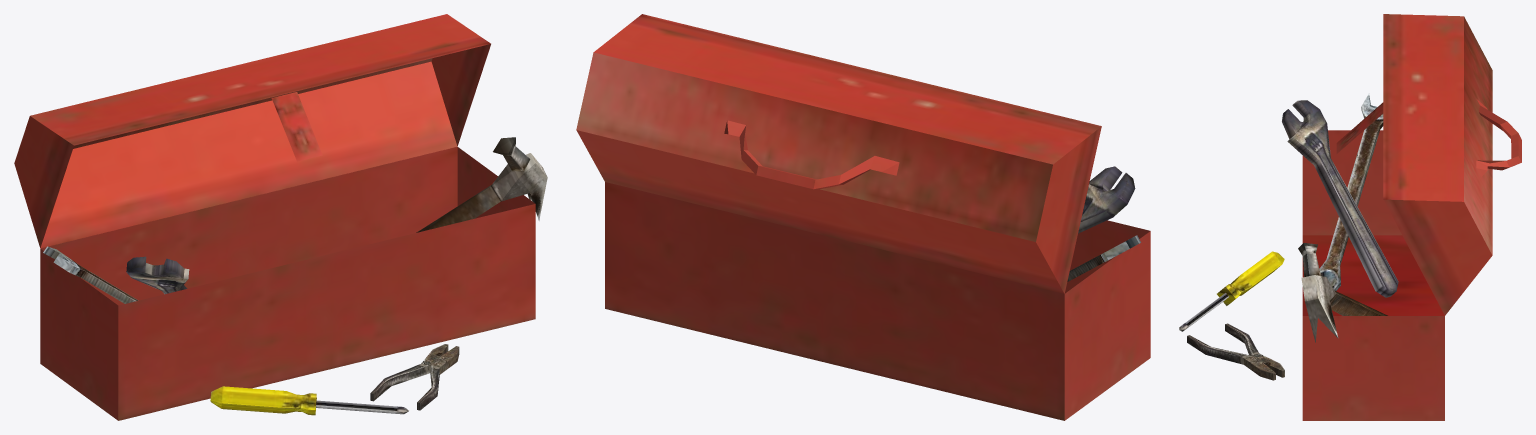
The model's file is ToolBoxFull.fbx.
3 views of the same model, side by side, from view 1: azimuth 30°, elevation 25°; view 2: azimuth 150°, elevation 25°; view 3: azimuth 270°, elevation 25° (orthographic). The views are drawn at different scales.
Visible parts, largest first — view 1: ToolBox, Hammer, ScrewDriverPlastic, Plires, AWrench, Wrench; view 2: ToolBox, AWrench, Wrench; view 3: ToolBox, AWrench, Hammer, Wrench, Plires, ScrewDriverPlastic.
Boxes of the visible parts, x1,y1,x2,y2 form: ToolBox: (14, 14, 535, 420); Hammer: (416, 137, 547, 232); ScrewDriverPlastic: (210, 386, 408, 415); Plires: (370, 344, 459, 410); AWrench: (126, 256, 189, 294); Wrench: (43, 246, 138, 303); ToolBox: (576, 14, 1150, 420); AWrench: (1078, 166, 1135, 233); Wrench: (1067, 235, 1140, 281); ToolBox: (1302, 14, 1521, 420); AWrench: (1282, 100, 1398, 297); Hammer: (1298, 243, 1387, 342); Wrench: (1319, 94, 1383, 290); Plires: (1187, 323, 1284, 380); ScrewDriverPlastic: (1179, 251, 1284, 331).
Size of the model in its own units: 216 by 109 by 152.
